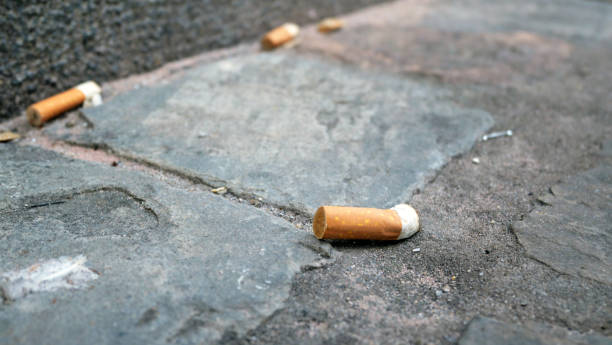General waste: (308, 193, 437, 262), (3, 71, 132, 138), (253, 15, 312, 59), (314, 11, 342, 49)
